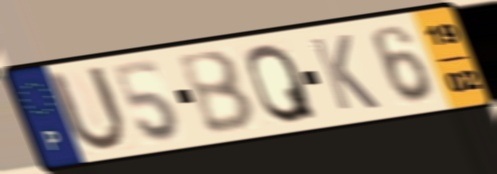5: (108, 54, 185, 146)
6: (370, 22, 435, 106)
B: (173, 47, 261, 138)
K: (306, 32, 384, 114)
Q: (244, 40, 321, 126)
U: (43, 63, 131, 156)
